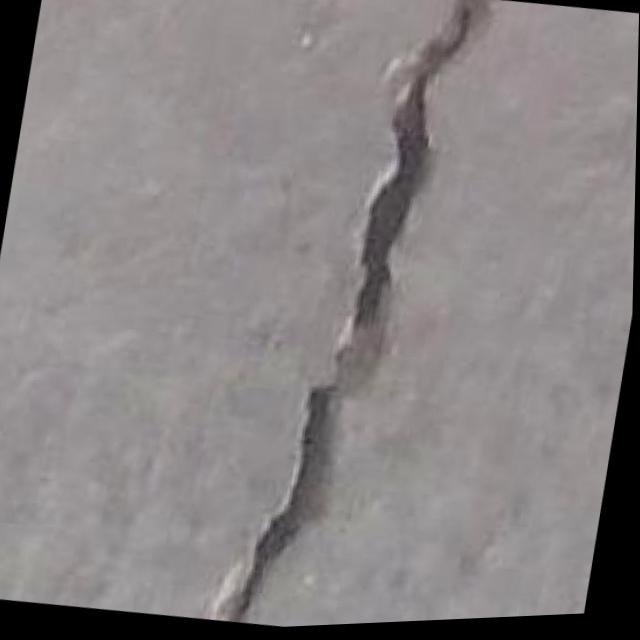Crack: (218, 0, 488, 632)
